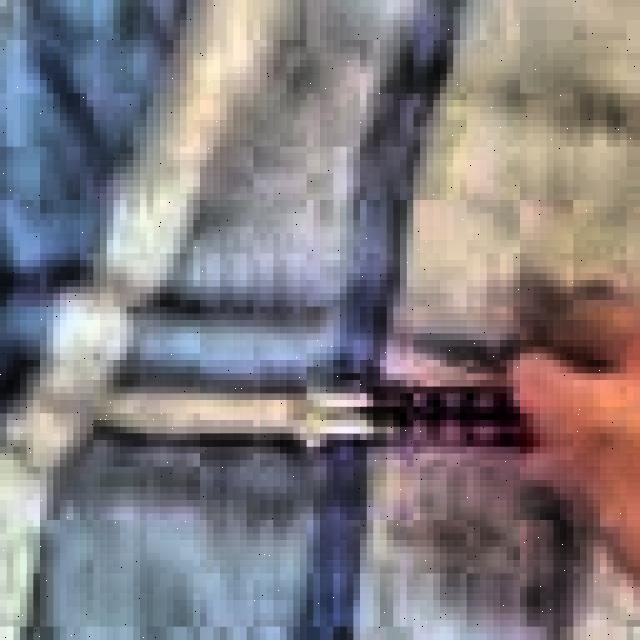knife: (73, 379, 538, 466)
